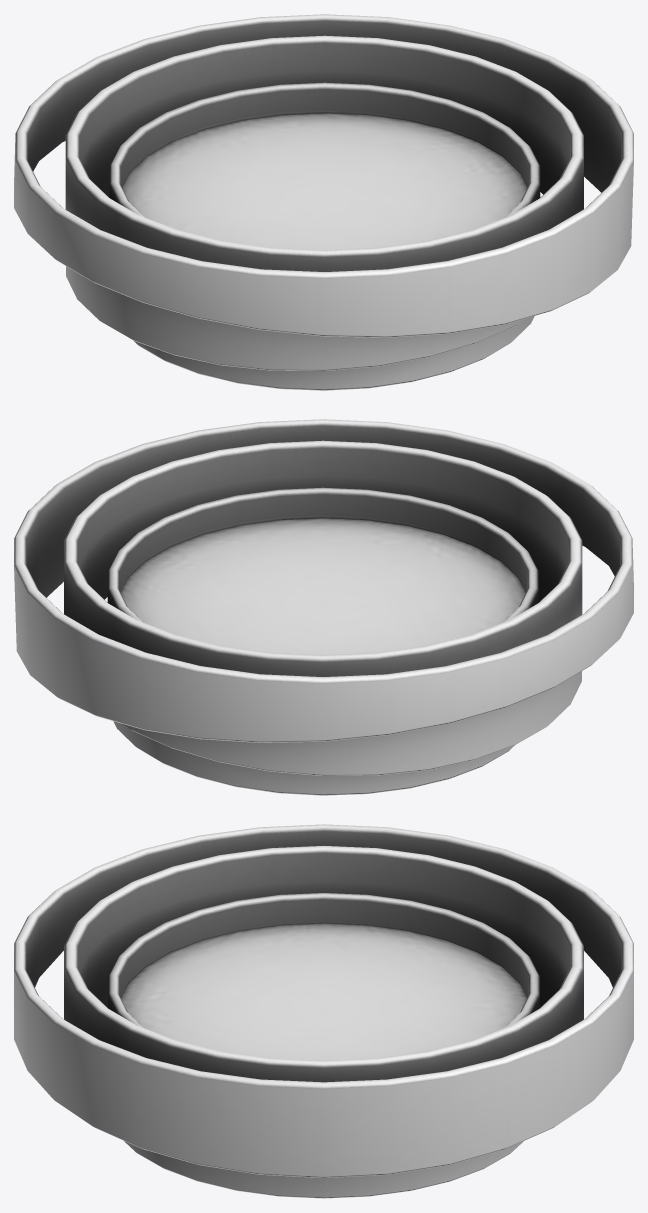
The model's file is ceiling-lamp-2.glb.
3 renders of one model, top to bottom at view 1: azimuth 30°, elevation 25°; view 2: azimuth 150°, elevation 25°; view 3: azimuth 270°, elevation 25°, orthographic.
Visible parts, largest first — view 1: Outer.001, Mid.001, Light, Inner.001; view 2: Outer.001, Mid.001, Light, Inner.001; view 3: Outer.001, Mid.001, Light, Inner.001.
Boxes of the visible parts, x1,y1,x2,y2 form: Outer.001: (14, 14, 633, 337); Mid.001: (65, 35, 583, 370); Light: (122, 113, 527, 250); Inner.001: (109, 82, 540, 390); Outer.001: (14, 419, 633, 742); Mid.001: (64, 440, 582, 775); Light: (120, 518, 525, 655); Inner.001: (107, 487, 538, 795); Outer.001: (14, 824, 633, 1177); Mid.001: (64, 846, 583, 1082); Light: (121, 923, 526, 1060); Inner.001: (108, 893, 539, 1198).
Bounding box in the file's own units: 2.28 × 0.6349 × 2.26.
Materials: 1 (1 with a texture image).
